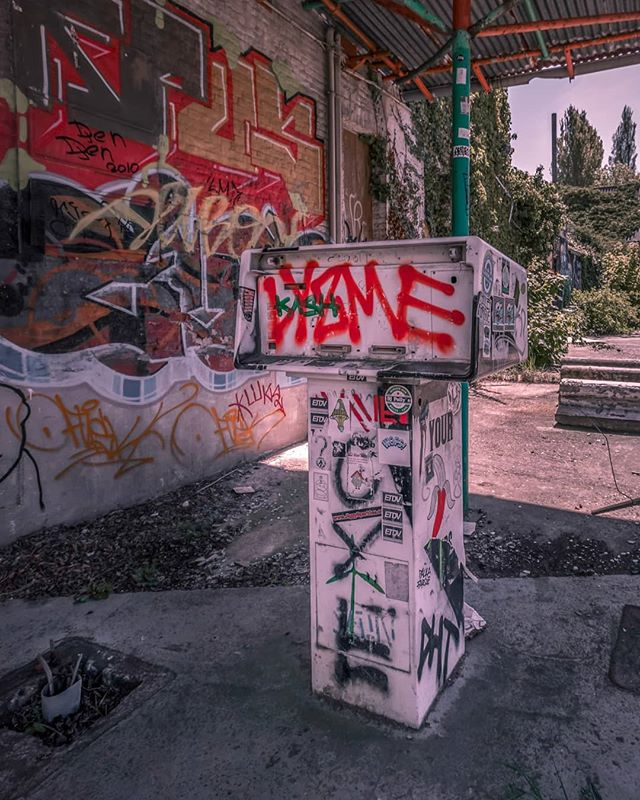graffiti: (1, 14, 331, 518), (300, 376, 422, 722), (251, 242, 472, 381)
